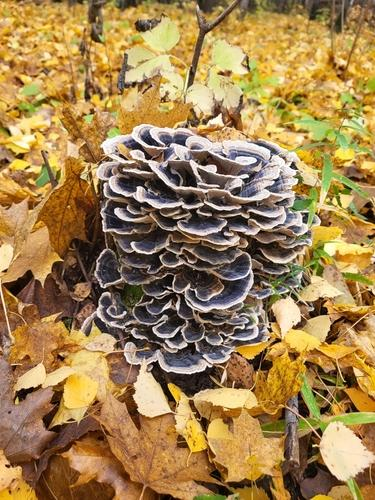poisonous_mushroom: (82, 122, 315, 375)
